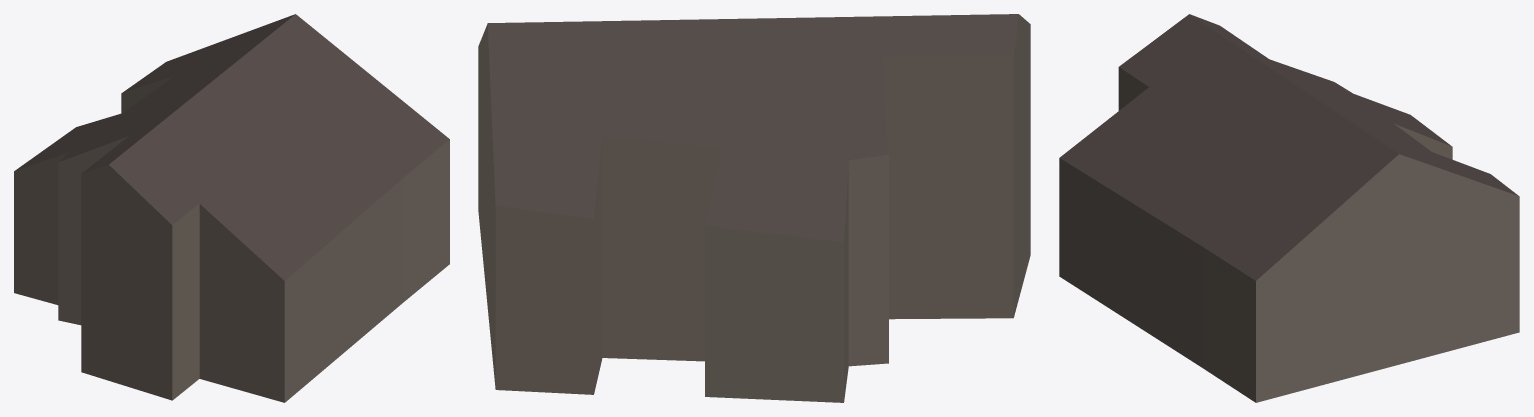
3 views of the same model, side by side, from view 1: azimuth 30°, elevation 25°; view 2: azimuth 150°, elevation 25°; view 3: azimuth 270°, elevation 25° (orthographic). The views are drawn at different scales.
Visible parts, largest first — view 1: HP-w1512459920; view 2: HP-w1512459920; view 3: HP-w1512459920.
Part boxes in pixels (x1,y1,x2,y2): HP-w1512459920: (14,14,449,402); HP-w1512459920: (478,14,1030,402); HP-w1512459920: (1059,14,1519,402).
Bounding box in the file's own units: 19.94 × 10.64 × 21.08.
